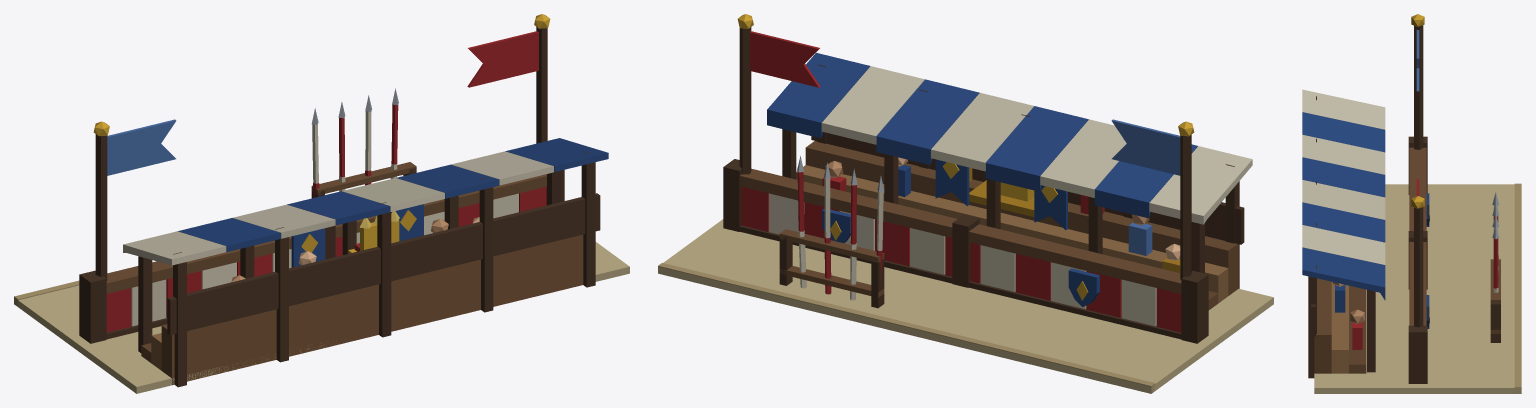
The model's file is Decor_KnightCastle_Lists.fbx.
3 views of the same model, side by side, from view 1: azimuth 30°, elevation 25°; view 2: azimuth 150°, elevation 25°; view 3: azimuth 270°, elevation 25° (orthographic). The views are drawn at different scales.
Visible parts, largest first — view 1: Lists_Body; view 2: Lists_Body; view 3: Lists_Body.
Part boxes in pixels (left/top/right/bottom): Lists_Body: left=14, top=14, right=629, bottom=393; Lists_Body: left=658, top=14, right=1273, bottom=393; Lists_Body: left=1302, top=14, right=1521, bottom=393.
Bounding box in the file's own units: 28 × 12 × 12.75.
